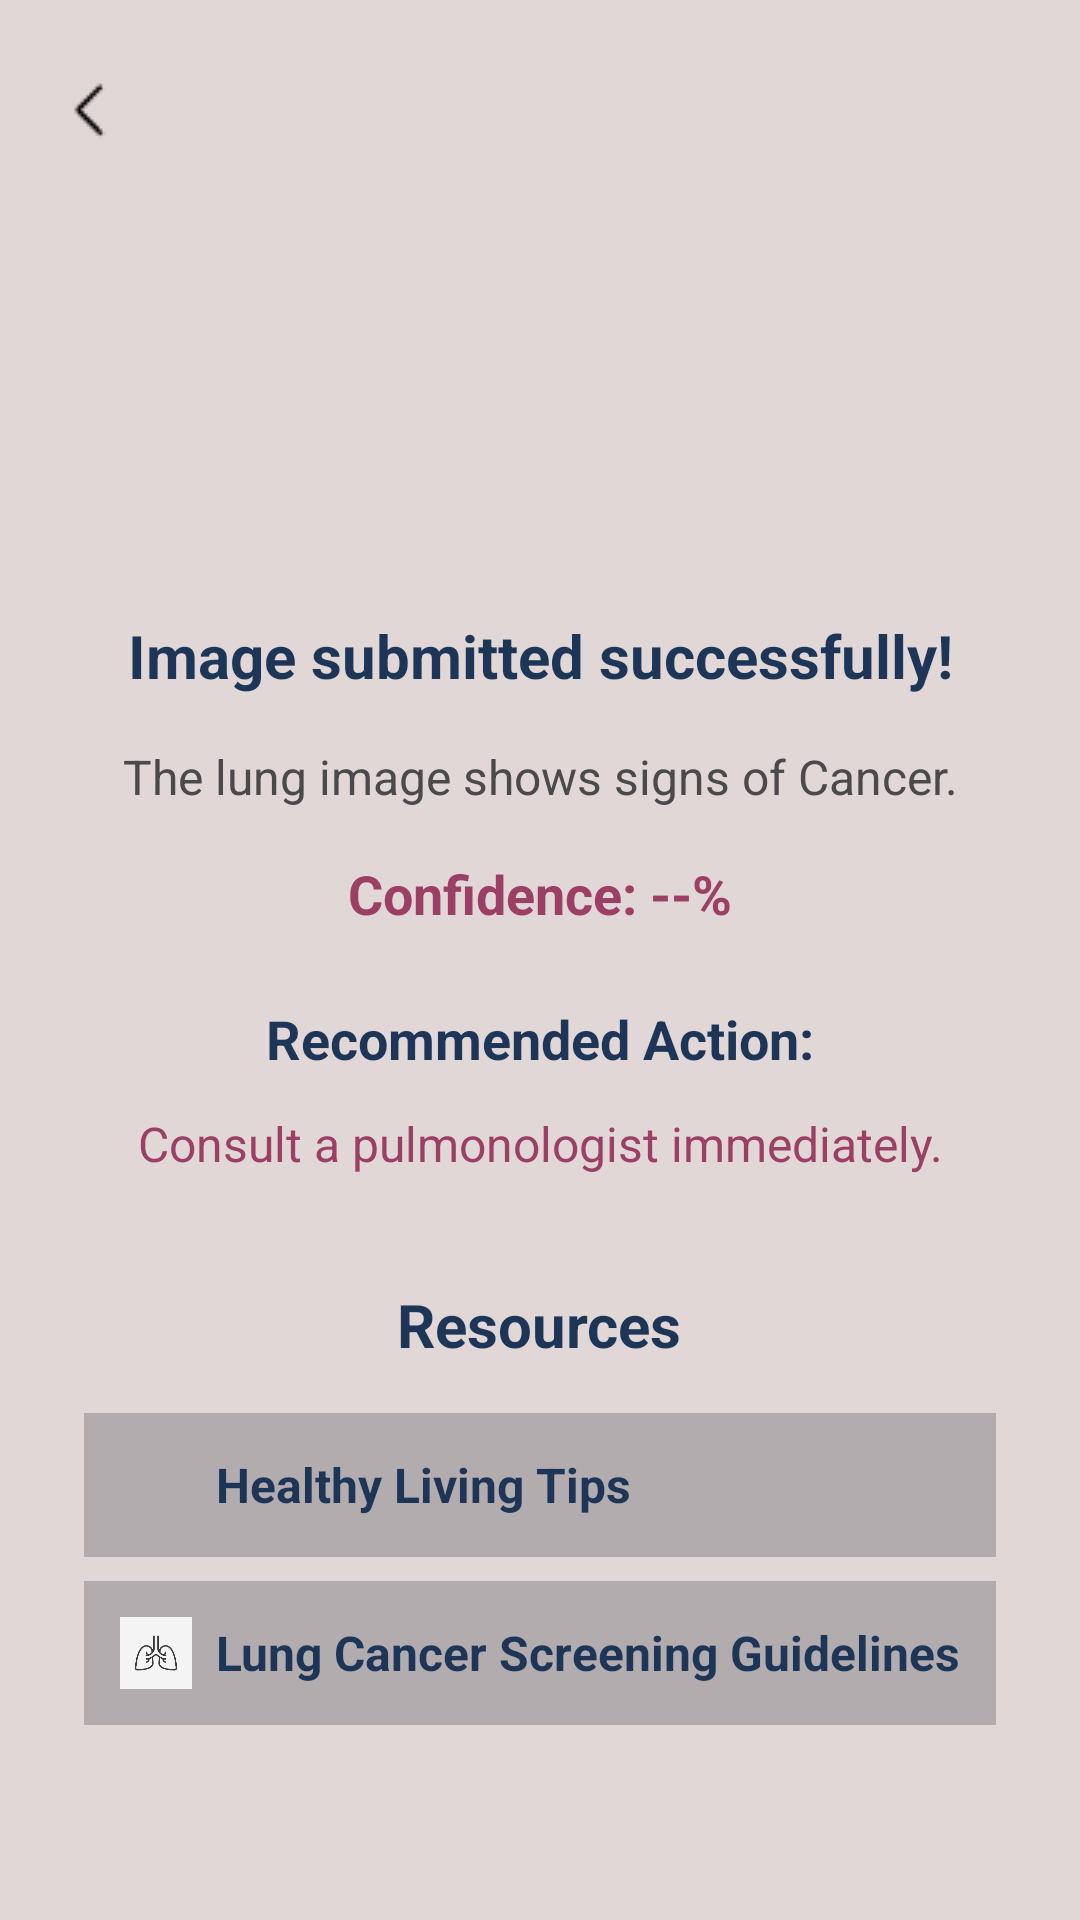

Icon bounding boxes for this 1080*1920 phone screenshot, format (x1, y1, x2, y2):
Back: (74, 83, 104, 136)
